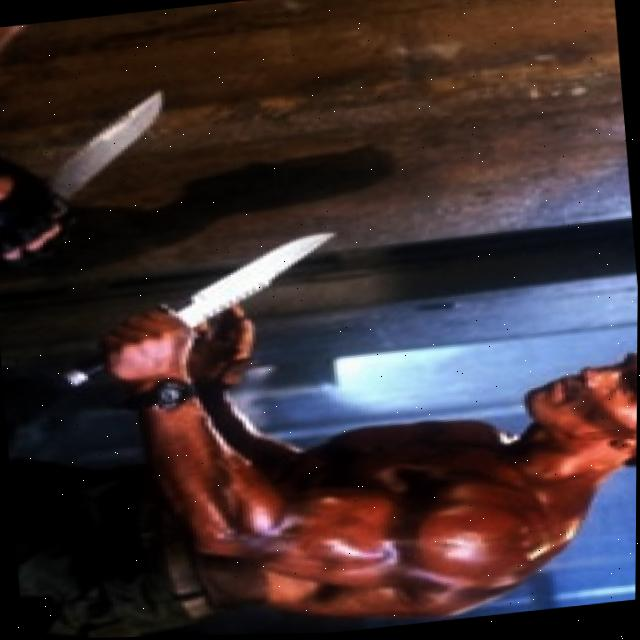knife: (148, 230, 345, 342), (33, 89, 168, 204)
